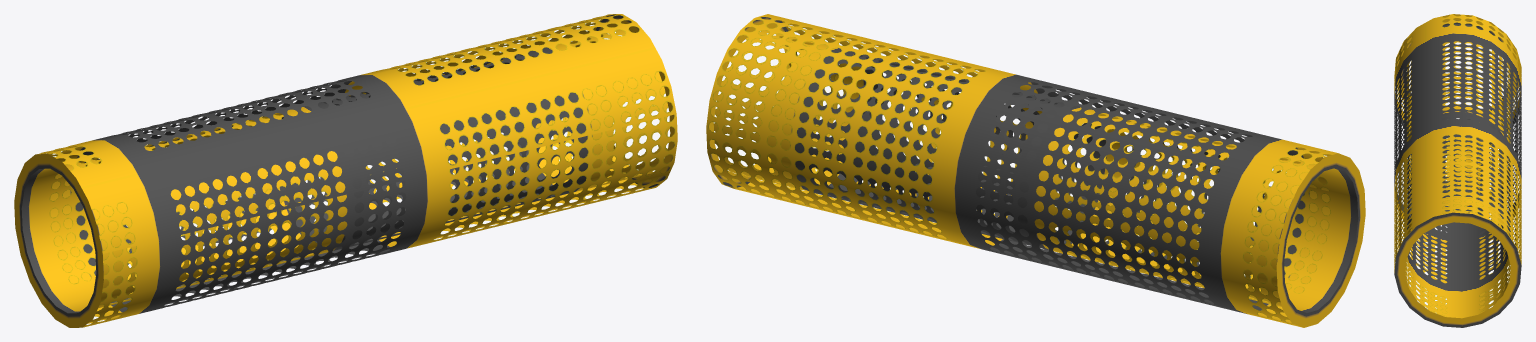
File: road1.fbx
The picture shows the model from 3 angles, left to right: view 1: azimuth 30°, elevation 25°; view 2: azimuth 150°, elevation 25°; view 3: azimuth 270°, elevation 25°; orthographic projection. The views are drawn at different scales.
Visible parts, largest first — view 1: road1; view 2: road1; view 3: road1.
Boxes of the visible parts, left/top/right/bottom form: road1: left=14, top=14, right=677, bottom=327; road1: left=706, top=14, right=1365, bottom=327; road1: left=1394, top=14, right=1521, bottom=327.
Size of the model in its own units: 8837 by 2392 by 2392.
